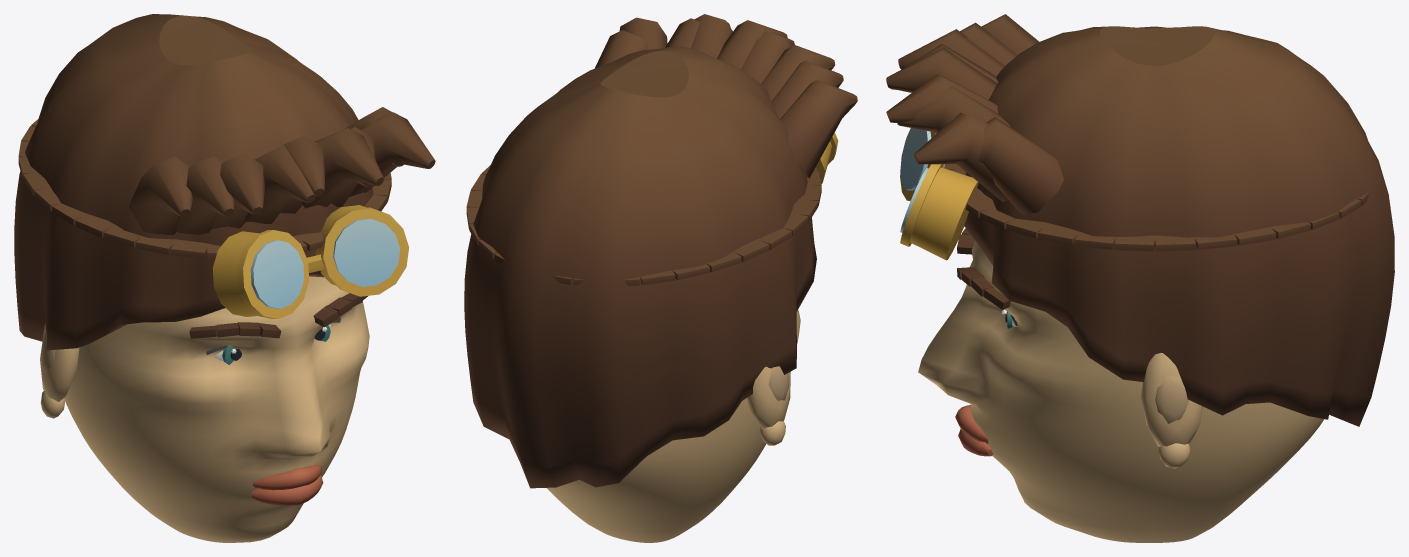
Rendered from merchant_lio_head.glb.
The picture shows the model from 3 angles, left to right: view 1: azimuth 30°, elevation 25°; view 2: azimuth 150°, elevation 25°; view 3: azimuth 270°, elevation 25°; orthographic projection. The views are drawn at different scales.
Parts seen in each view (by area): view 1: merchant_lio_head; view 2: merchant_lio_head; view 3: merchant_lio_head.
Boxes of the visible parts, left/top/right/bottom form: merchant_lio_head: left=14, top=14, right=435, bottom=542; merchant_lio_head: left=464, top=14, right=857, bottom=542; merchant_lio_head: left=886, top=14, right=1394, bottom=542.
Size of the model in its own units: 0.6327 by 0.9137 by 0.8603.
Materials: 1 (1 with a texture image).
